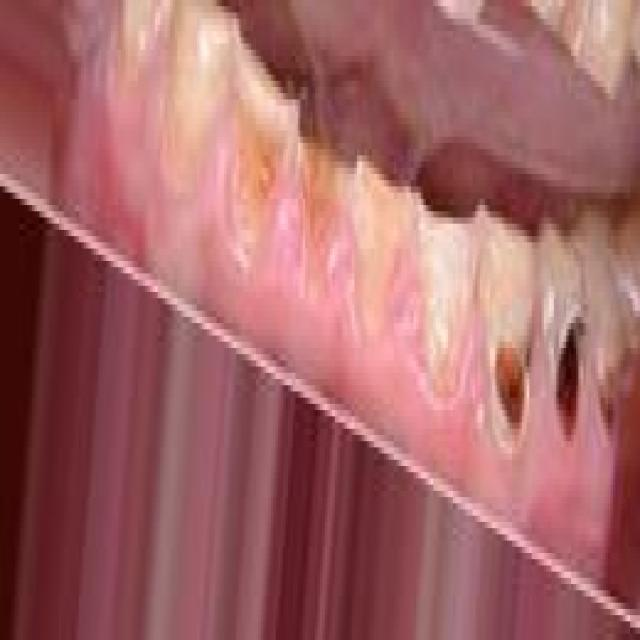caries: (226, 63, 292, 242), (482, 268, 540, 468), (295, 136, 349, 289), (544, 277, 588, 448), (591, 305, 636, 455)
